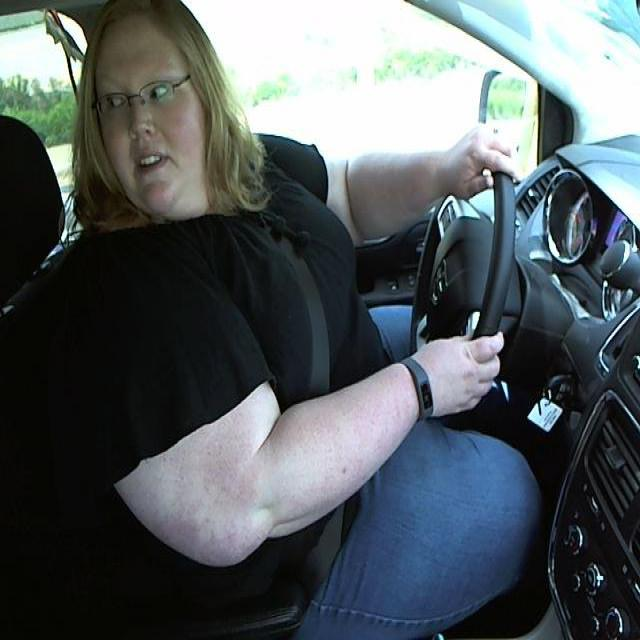seatbelt: (267, 220, 342, 413)
